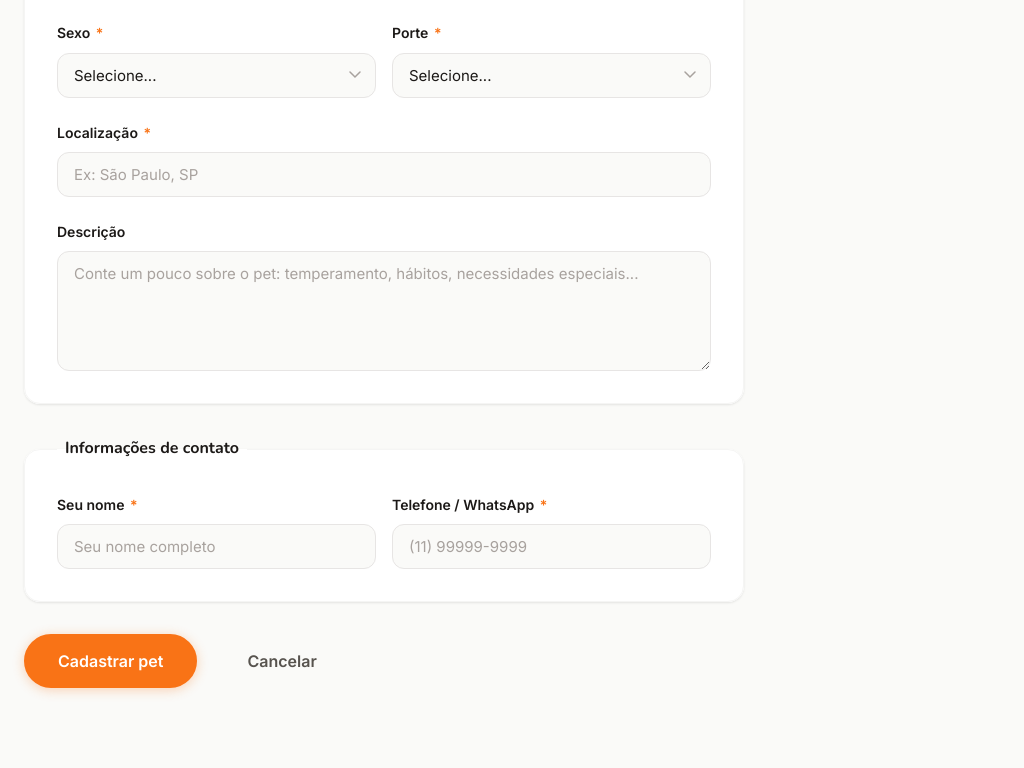
Test: CadastrarPage › remove o erro do select ao selecionar uma opção
(page scrolled)
Click the button with test id "register-btn-submit".
click(111, 662)  # box [24, 634, 198, 688]
(page scrolled)
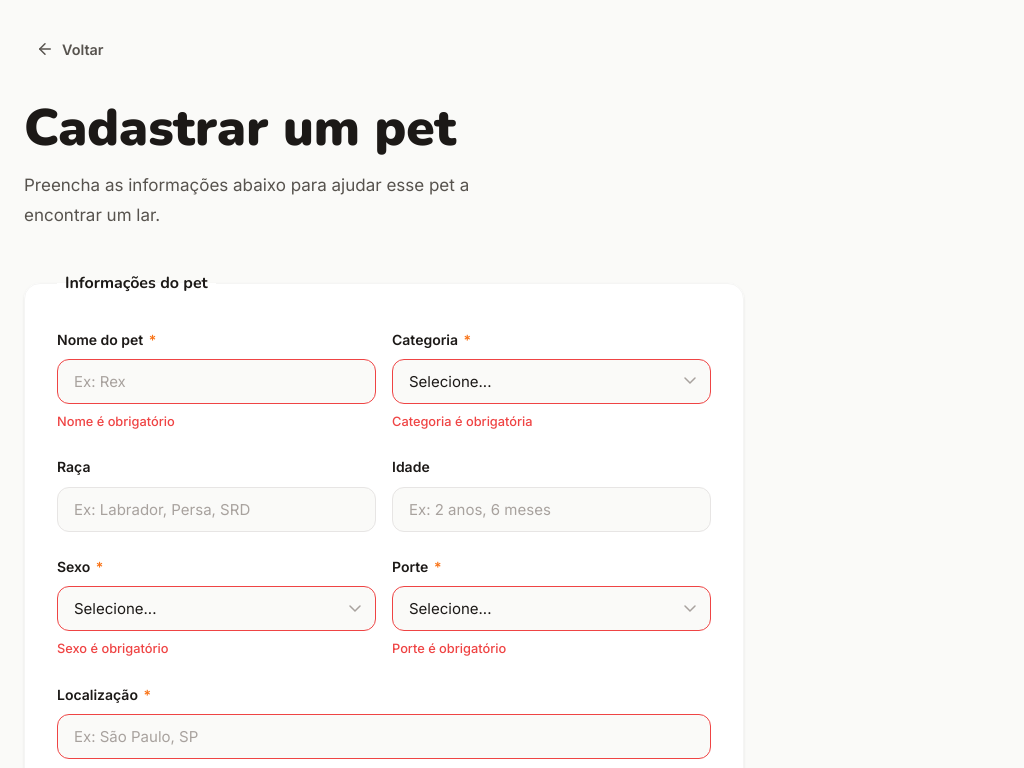
Expected: the message "Categoria é obrigatória" is shown, [392, 414, 533, 429]
Select "Gato" in the dropdown with test id "register-select-category" at (552, 381), box [392, 359, 711, 404]
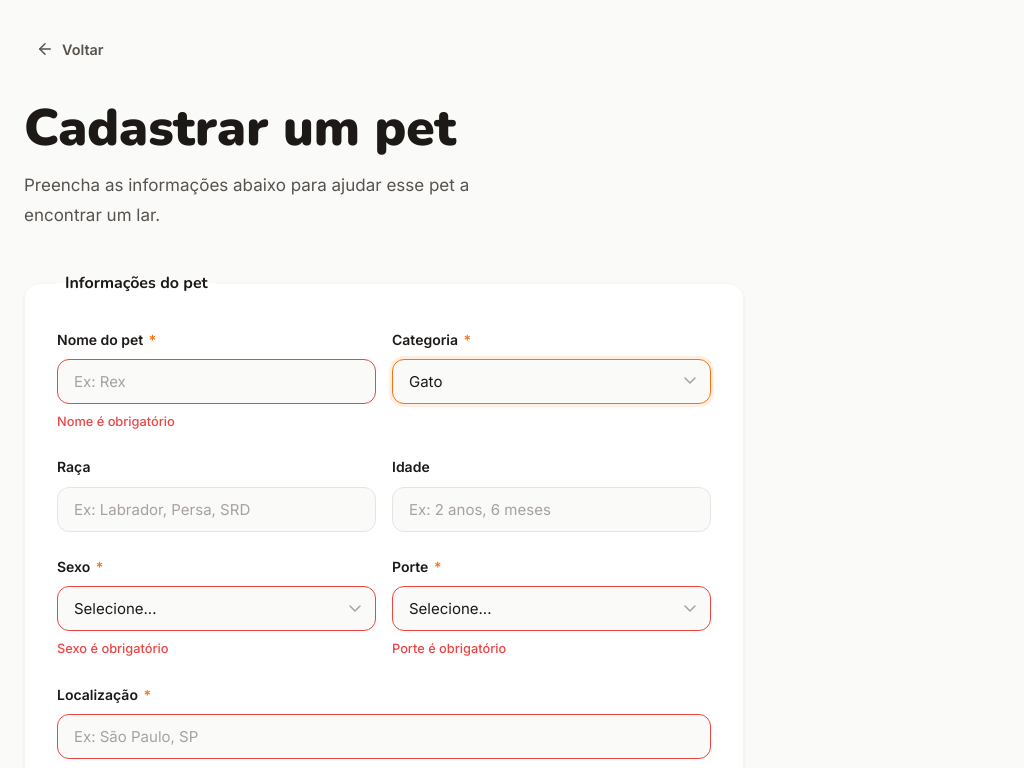
Expected: the message with test id "register-error-category" is gone
